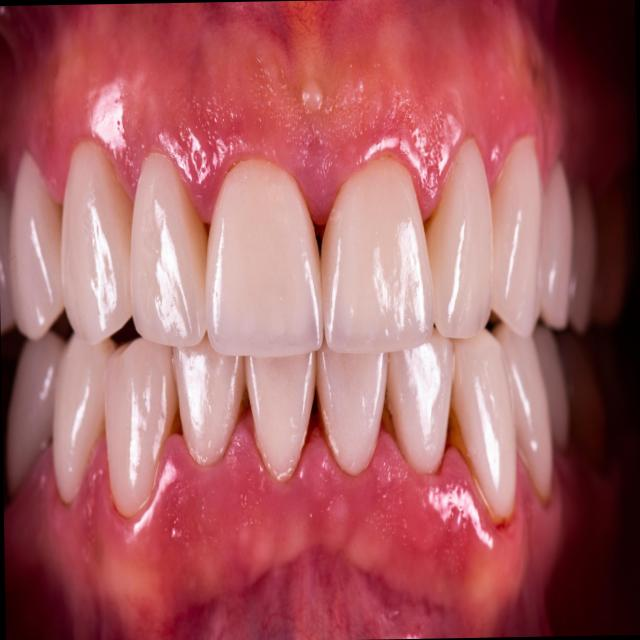Tooth: (205, 157, 323, 356), (320, 156, 436, 353), (60, 138, 133, 348), (130, 153, 207, 346), (422, 135, 492, 339), (103, 339, 178, 517), (450, 328, 516, 520), (52, 334, 120, 502), (490, 320, 552, 499), (8, 150, 65, 340), (315, 332, 389, 475), (381, 327, 452, 474), (491, 136, 542, 336), (7, 330, 66, 499), (172, 331, 243, 466), (243, 351, 316, 482), (540, 159, 572, 327)
